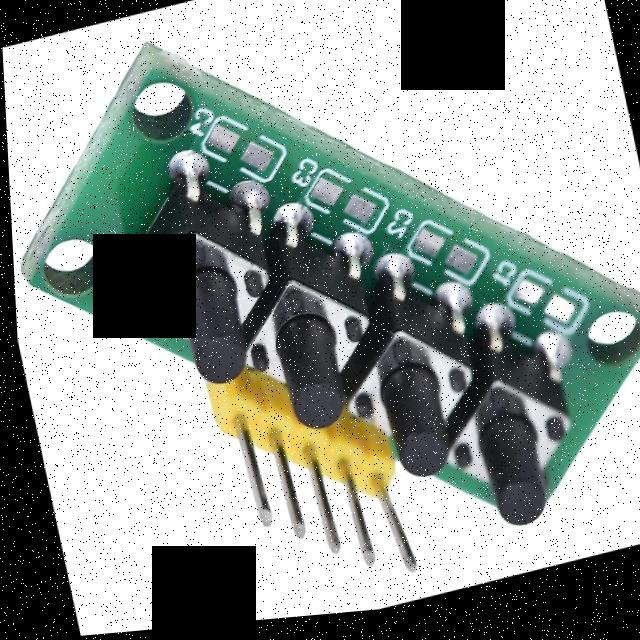2235: (107, 169, 300, 408), (225, 235, 387, 448), (427, 359, 588, 552), (327, 307, 491, 495)
connector -5v-: (205, 374, 413, 627)
